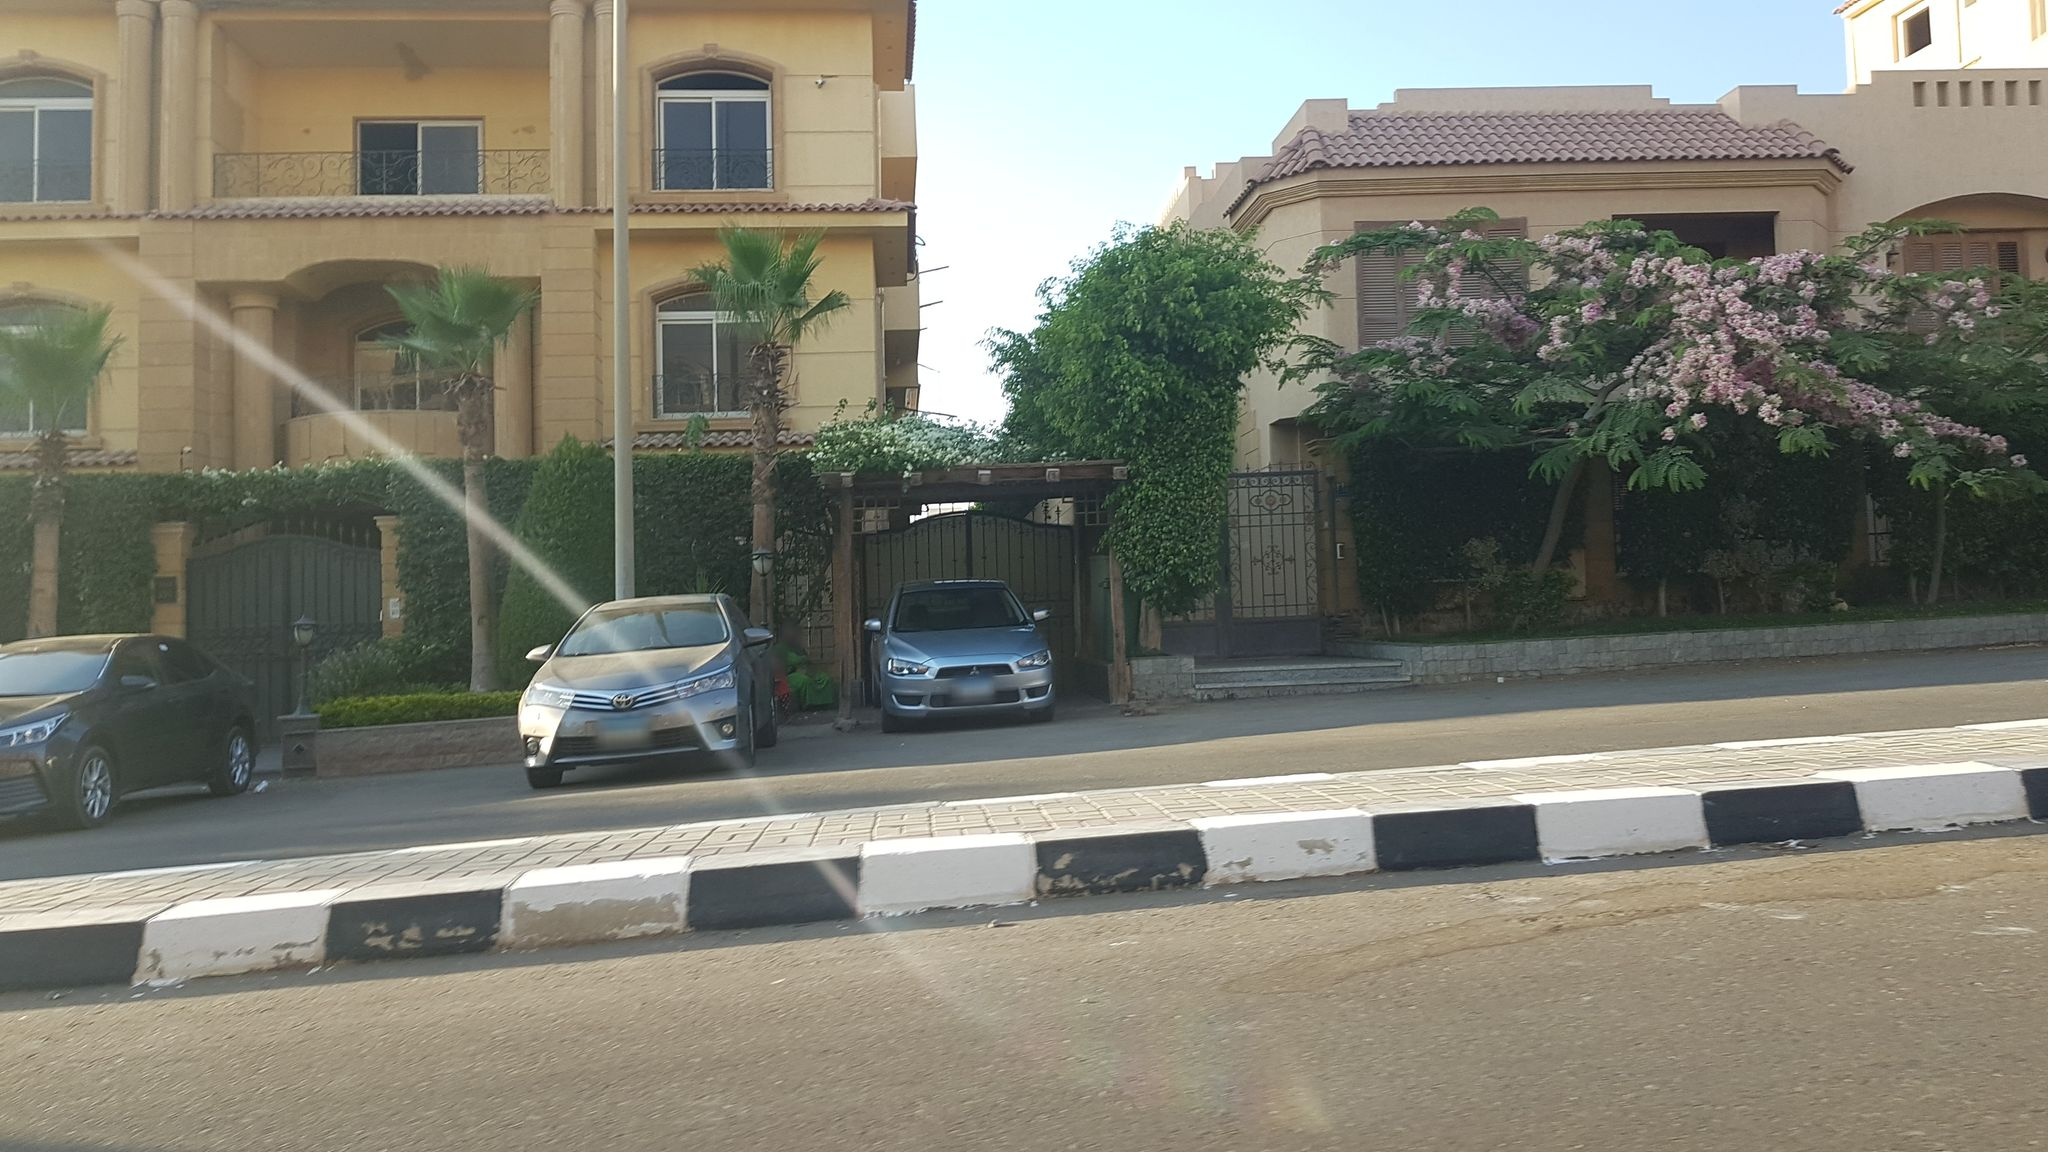car: (0, 633, 260, 834), (513, 594, 782, 776), (865, 577, 1054, 727)
